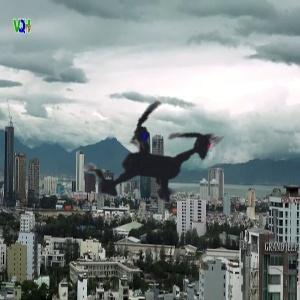drone: (31, 42, 276, 287)
